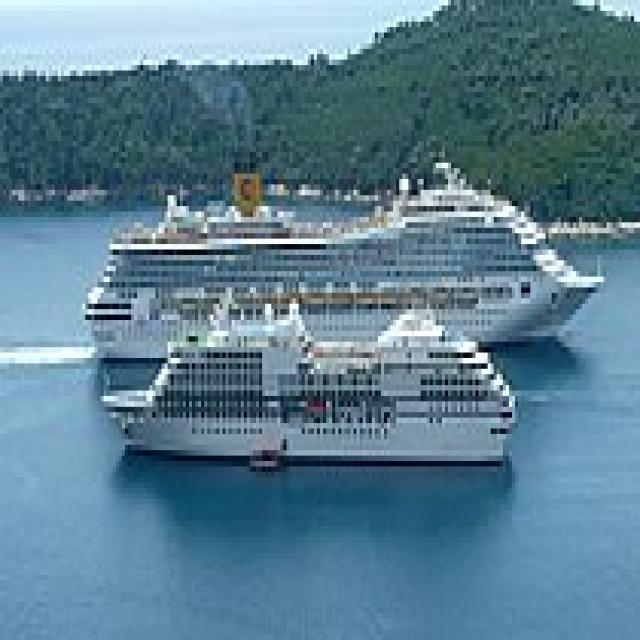boat: (83, 176, 613, 353), (112, 338, 518, 476)
